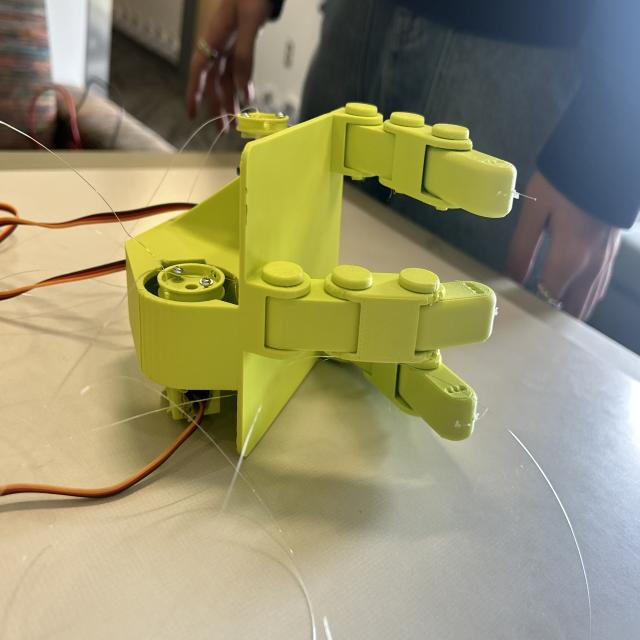prosthetic: (122, 98, 520, 460)
